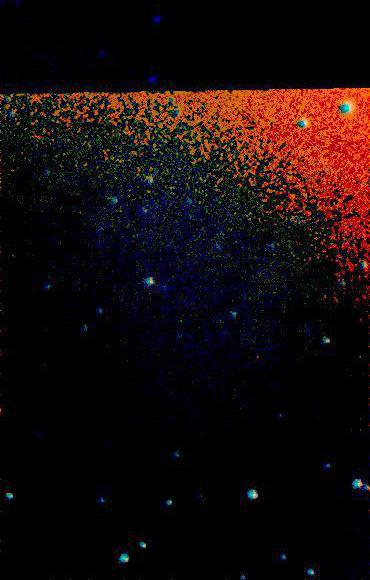star: (164, 298, 194, 328)
